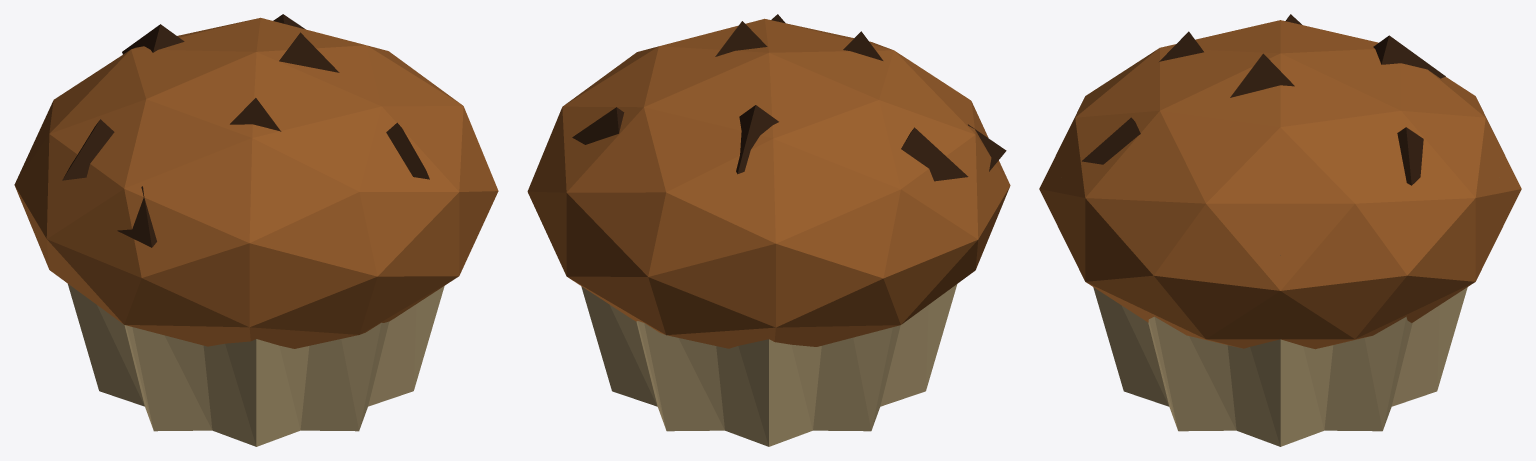
The model's file is muffin-e3bd16.glb.
3 views of the same model, side by side, from view 1: azimuth 30°, elevation 25°; view 2: azimuth 150°, elevation 25°; view 3: azimuth 270°, elevation 25° (orthographic).
Visible parts, largest first — view 1: muffin; view 2: muffin; view 3: muffin.
Part boxes in pixels (x1=…): muffin: x1=14, y1=14, x2=498, y2=446; muffin: x1=527, y1=14, x2=1010, y2=446; muffin: x1=1039, y1=14, x2=1521, y2=446.
Size of the model in its own units: 0.094 by 0.0738 by 0.094.
